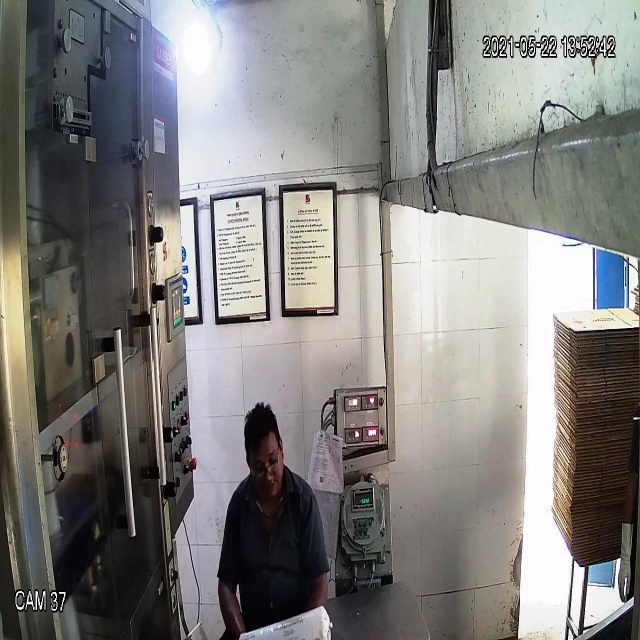Gafas: (247, 448, 283, 488)
